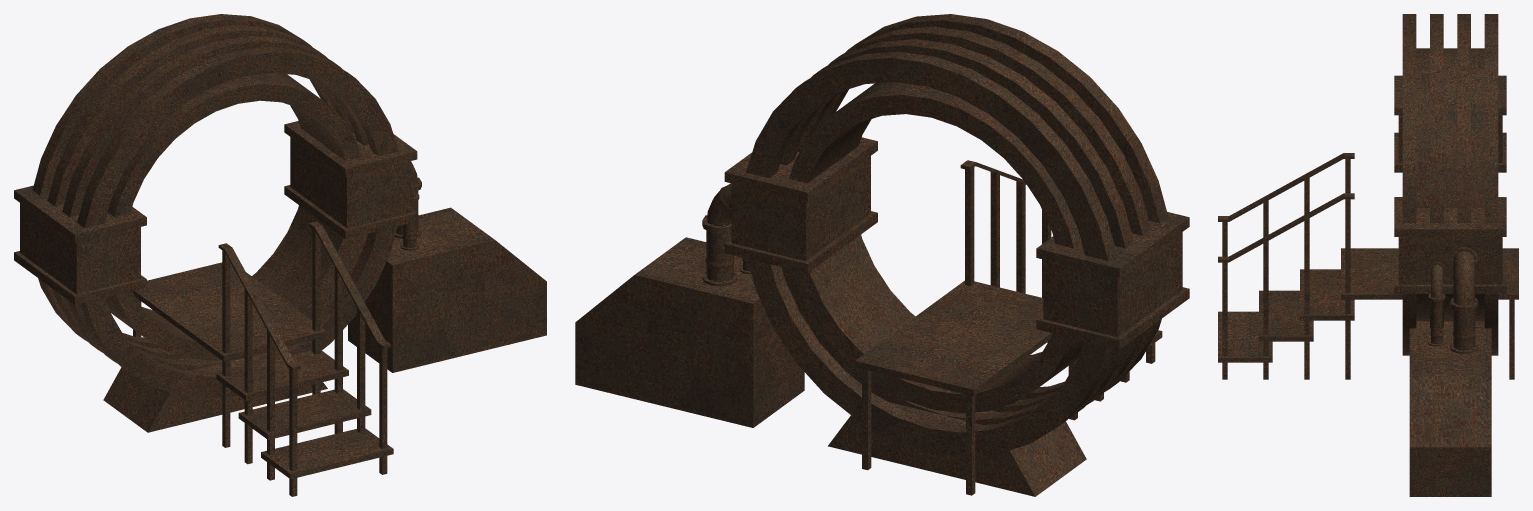
The model's file is portal_mx_1.glb.
3 views of the same model, side by side, from view 1: azimuth 30°, elevation 25°; view 2: azimuth 150°, elevation 25°; view 3: azimuth 270°, elevation 25° (orthographic). The views are drawn at different scales.
Visible parts, largest first — view 1: portal_mx_1; view 2: portal_mx_1; view 3: portal_mx_1.
Boxes of the visible parts, x1,y1,x2,y2 form: portal_mx_1: [14, 14, 546, 496]; portal_mx_1: [575, 14, 1189, 496]; portal_mx_1: [1218, 14, 1518, 496].
Size of the model in its own units: 5.33 by 3.79 by 3.15.
1 material, 1 textured.
